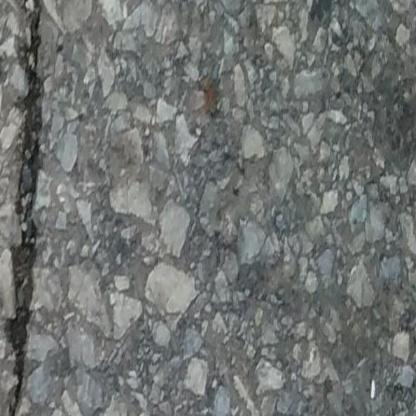Cracks: (3, 0, 48, 416)
